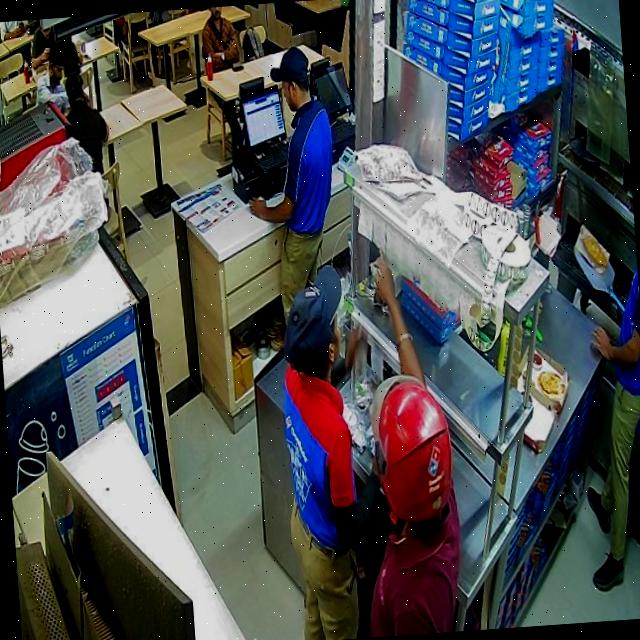helmet: (370, 375, 450, 520)
